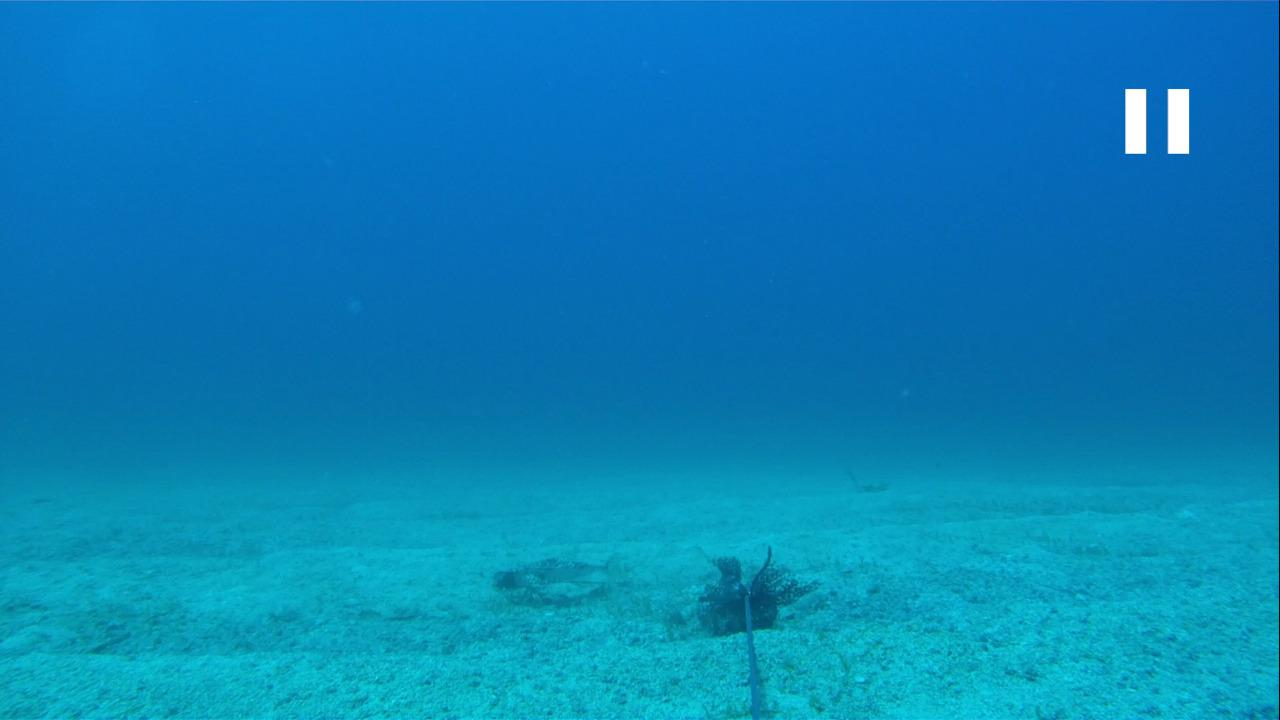dactylopterus: (491, 553, 630, 597)
